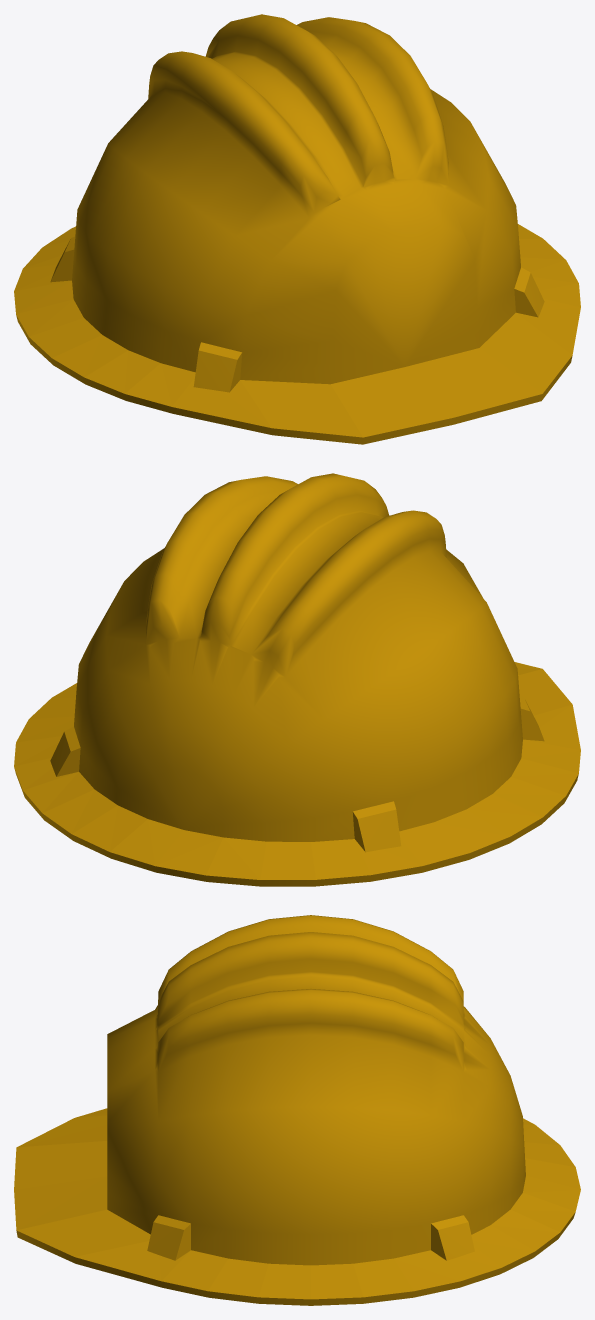
File: HardHat.fbx
3 views of the same model, one above another, from view 1: azimuth 30°, elevation 25°; view 2: azimuth 150°, elevation 25°; view 3: azimuth 270°, elevation 25° (orthographic). The views are drawn at different scales.
Parts seen in each view (by area): view 1: hardHat; view 2: hardHat; view 3: hardHat.
Part boxes in pixels (<box>): hardHat: <box>14,14,580,444</box>; hardHat: <box>14,473,580,886</box>; hardHat: <box>14,915,580,1305</box>.
Size of the model in its own units: 99.53 by 53.82 by 105.
